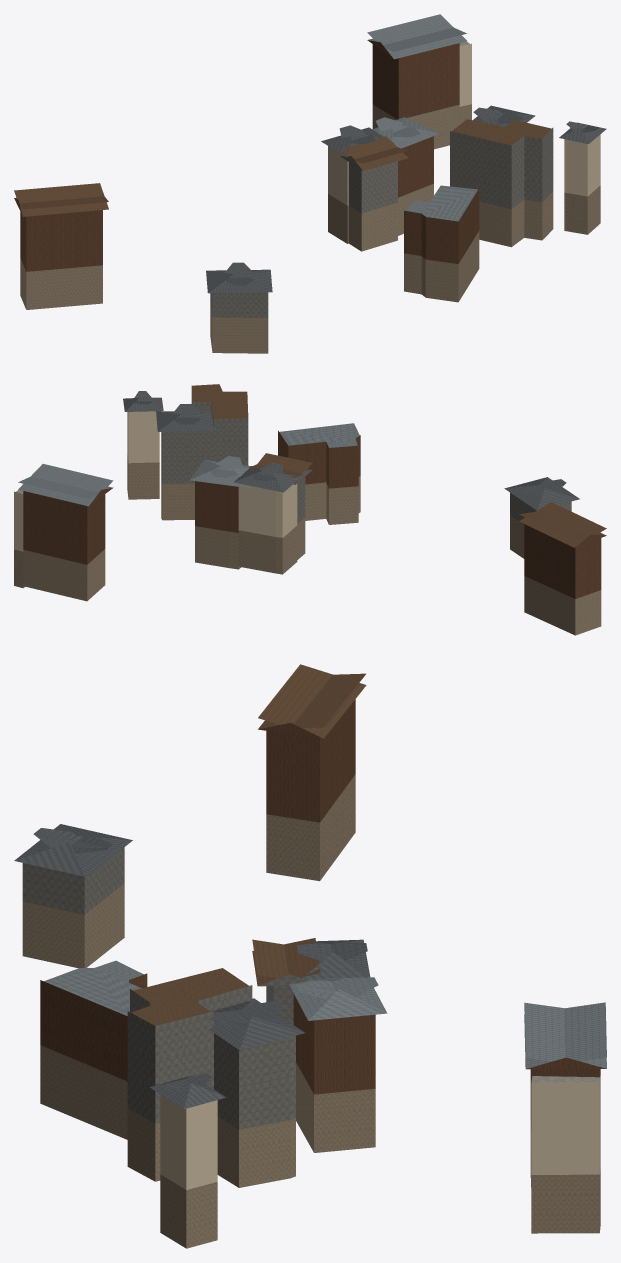
File: bld_c28_-53_550.gltf
The picture shows the model from 3 angles, top to bottom: view 1: azimuth 30°, elevation 25°; view 2: azimuth 150°, elevation 25°; view 3: azimuth 270°, elevation 25°; orthographic projection. The views are drawn at different scales.
Visible parts, largest first — view 1: bld_c28_-53_550; view 2: bld_c28_-53_550; view 3: bld_c28_-53_550.
Part boxes in pixels (x1,y1,x2,y2): bld_c28_-53_550: [14, 14, 606, 353]; bld_c28_-53_550: [14, 384, 606, 635]; bld_c28_-53_550: [14, 664, 606, 1248].
Size of the model in its own units: 76.13 by 15.8 by 46.84.
Materials: 11 (11 with a texture image).
